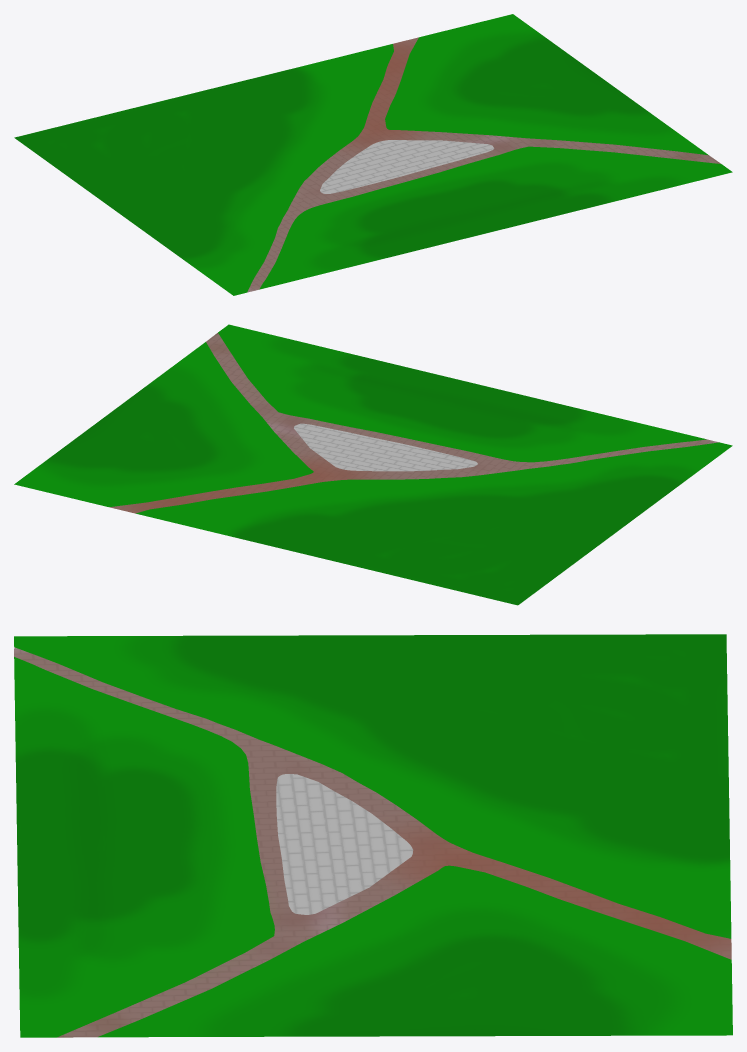
The model's file is Forest1.fbx.
The picture shows the model from 3 angles, top to bottom: view 1: azimuth 30°, elevation 25°; view 2: azimuth 150°, elevation 25°; view 3: azimuth 270°, elevation 25°; orthographic projection. The views are drawn at different scales.
Parts seen in each view (by area): view 1: Ground.002; view 2: Ground.002; view 3: Ground.002.
Boxes of the visible parts, <box> form: Ground.002: <box>14,14,732,295</box>; Ground.002: <box>14,324,732,605</box>; Ground.002: <box>14,634,732,1037</box>.
Size of what is drawn, in the model's own units: 7232 by 0.000887 by 5447.
